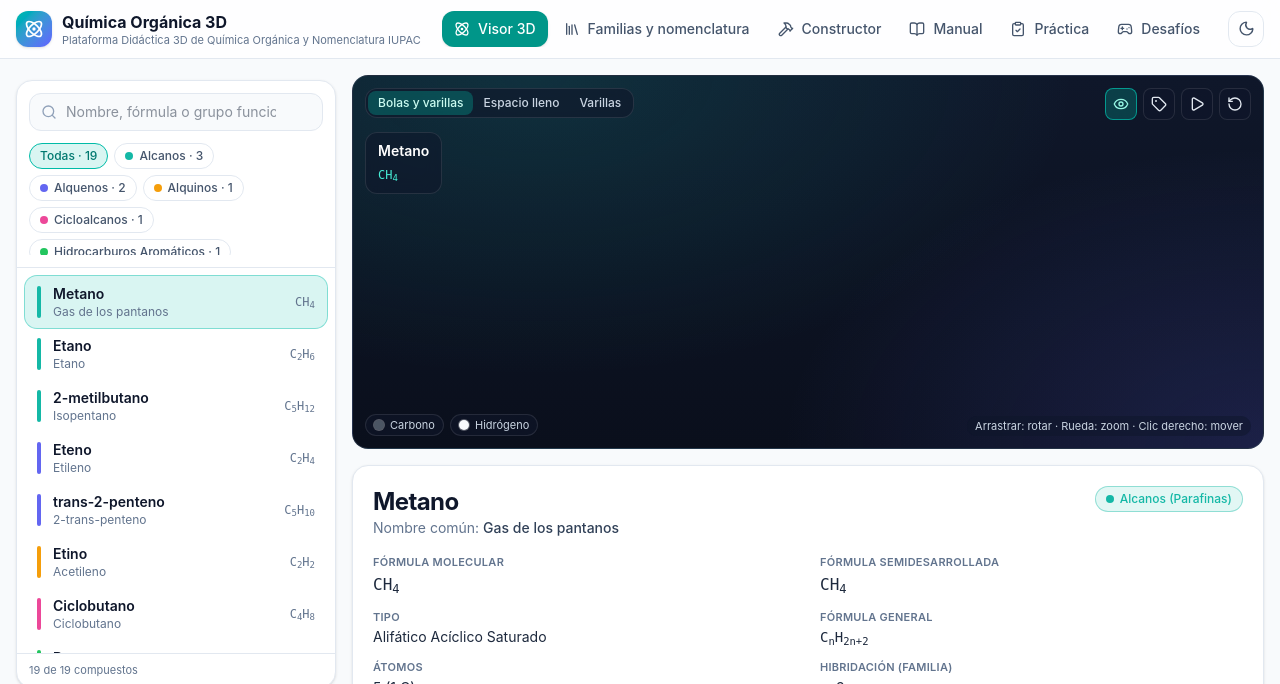
Test: Práctica de parcial › hoja Tema A: corrige una fórmula → nombre con ayuda inmediata
Click the button "Práctica".
click(1050, 29)  # box [998,11,1101,47]
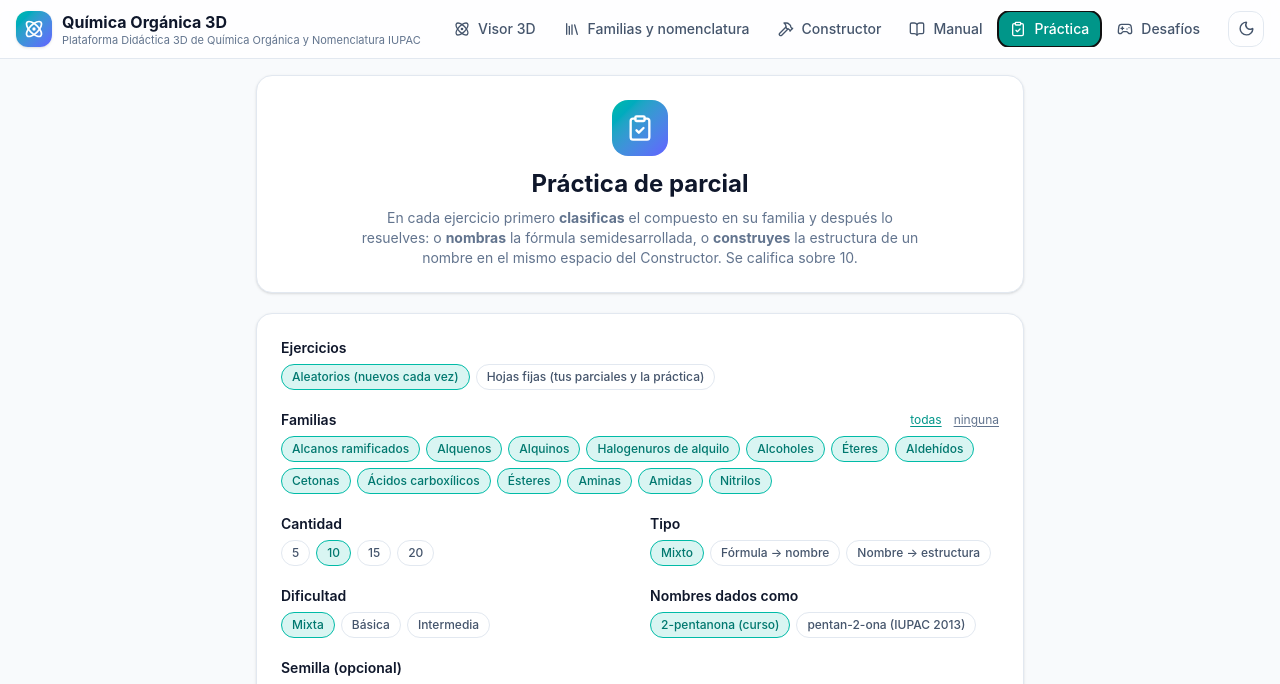
Click the button "Hojas fijas (tus parciales y la práctica)".
click(596, 377)  # box [476,364,715,390]
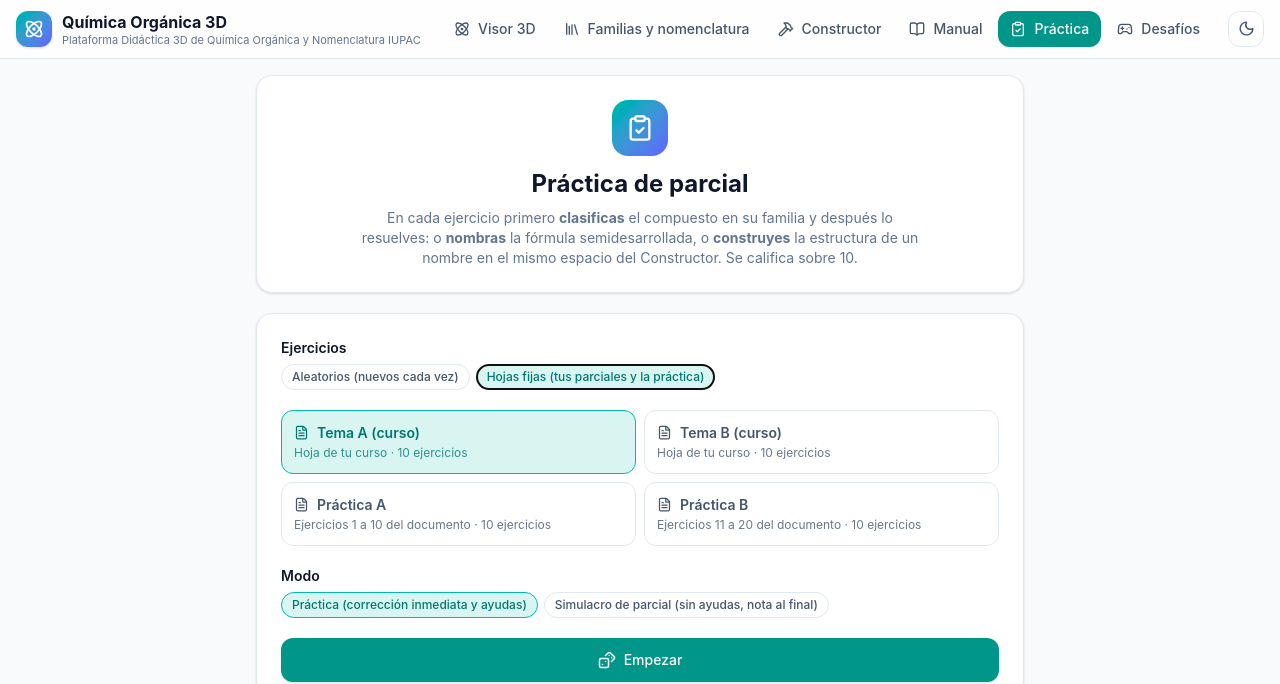
Click the button "Tema A (curso) Hoja de tu curso · 10 ejercicios".
click(458, 442)  # box [281,410,636,474]
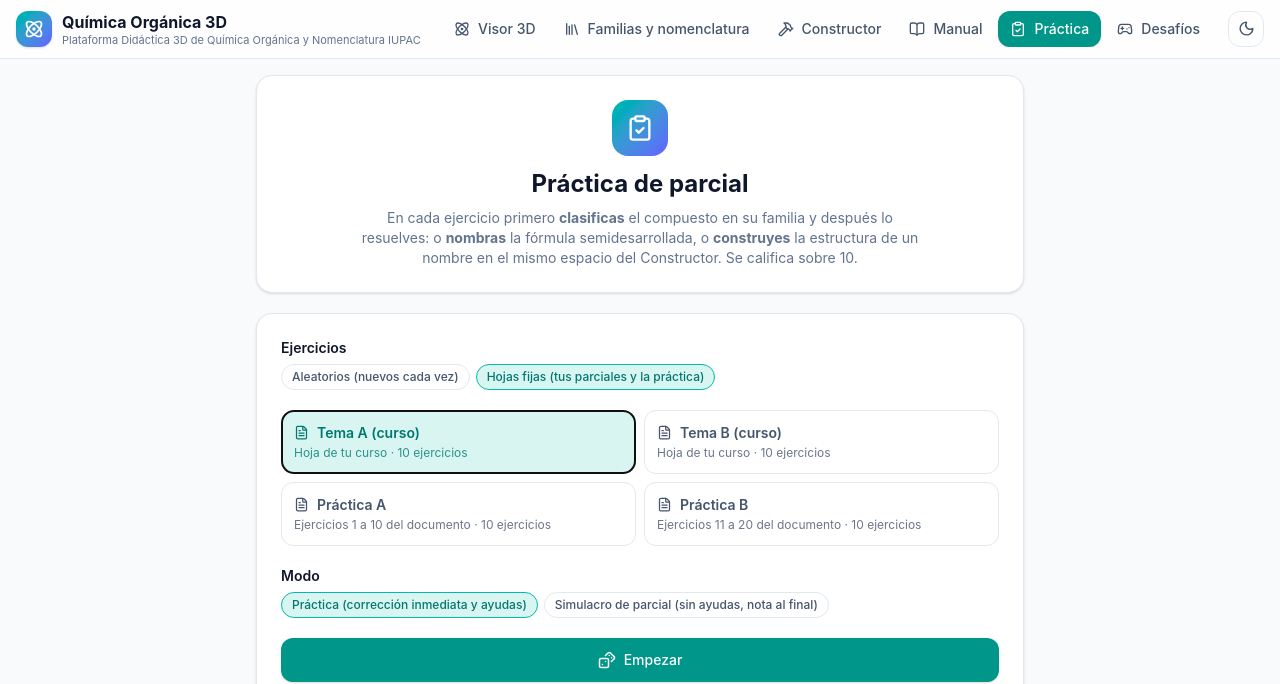
Click the button "Empezar".
click(640, 660)  # box [281,638,999,682]
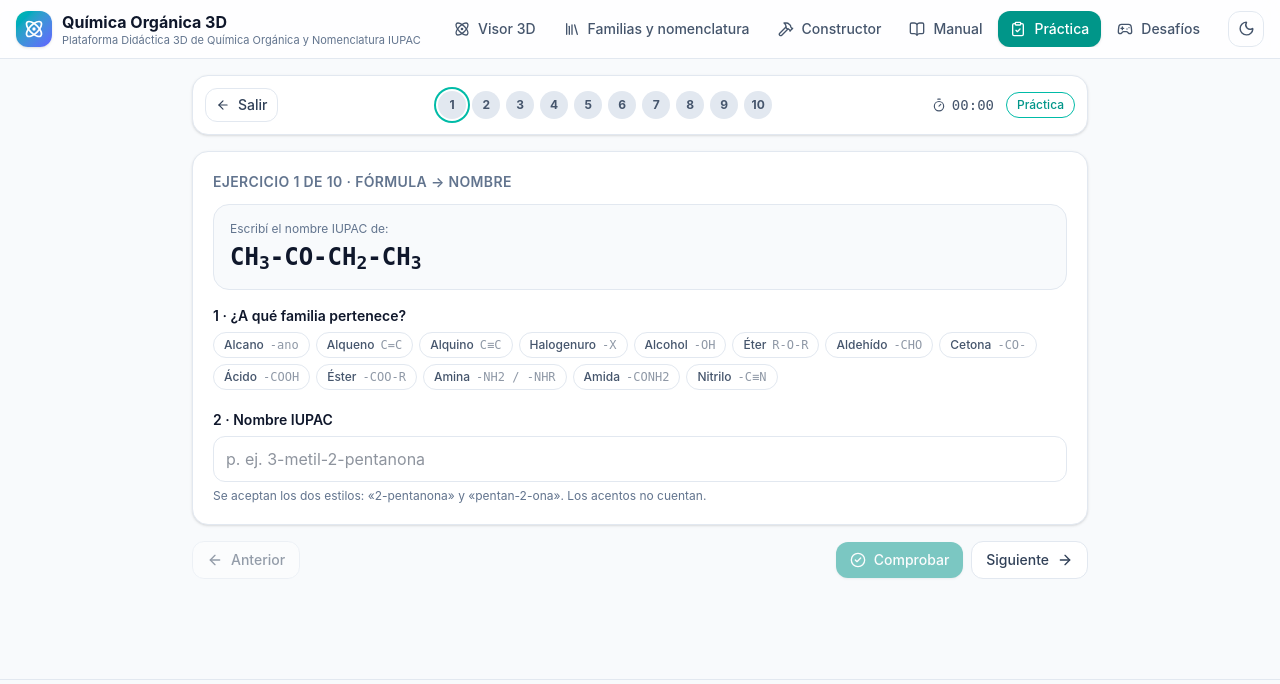
Result: the element with test id "dado" reads "CH3-CO-CH2-CH3" at [230,243,422,273]
Click the button "Cetona -CO-".
click(988, 345)  # box [939,332,1037,358]
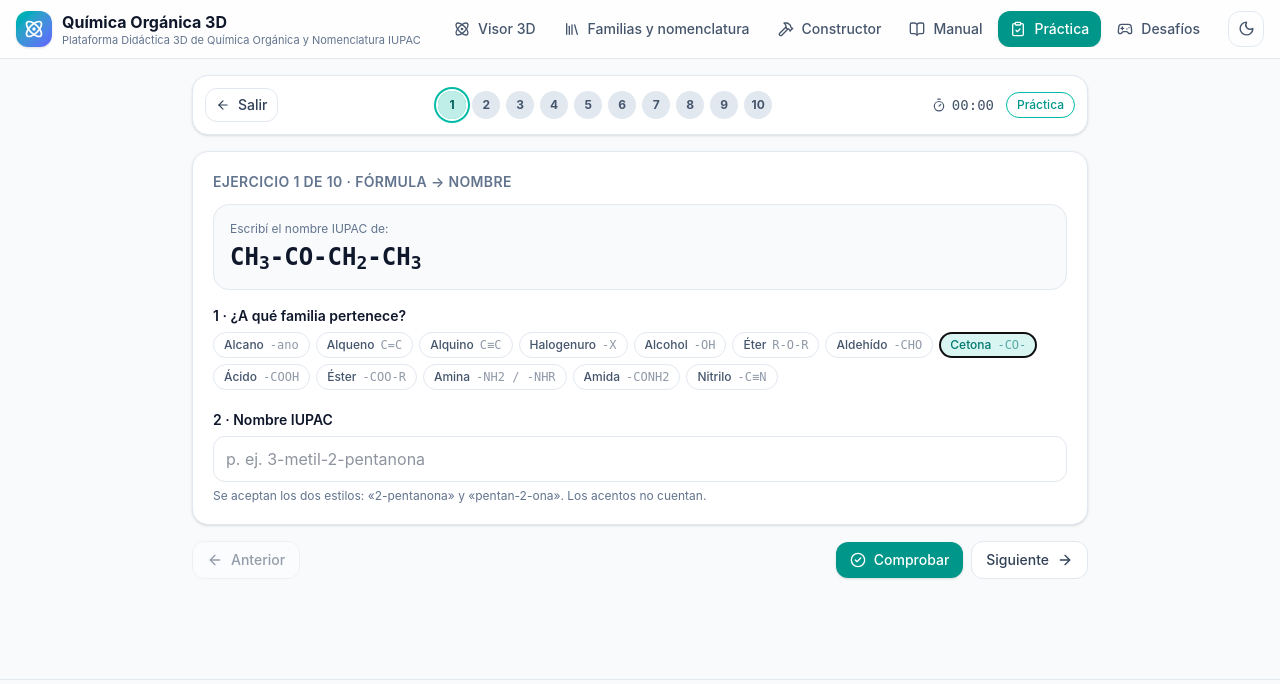
Type "2-butanona" into the field named "Nombre IUPAC".
click(640, 459); type("2-butanona")  # box [213,436,1067,482]
Click the button "Comprobar".
click(900, 560)  # box [836,542,963,578]
(page scrolled)
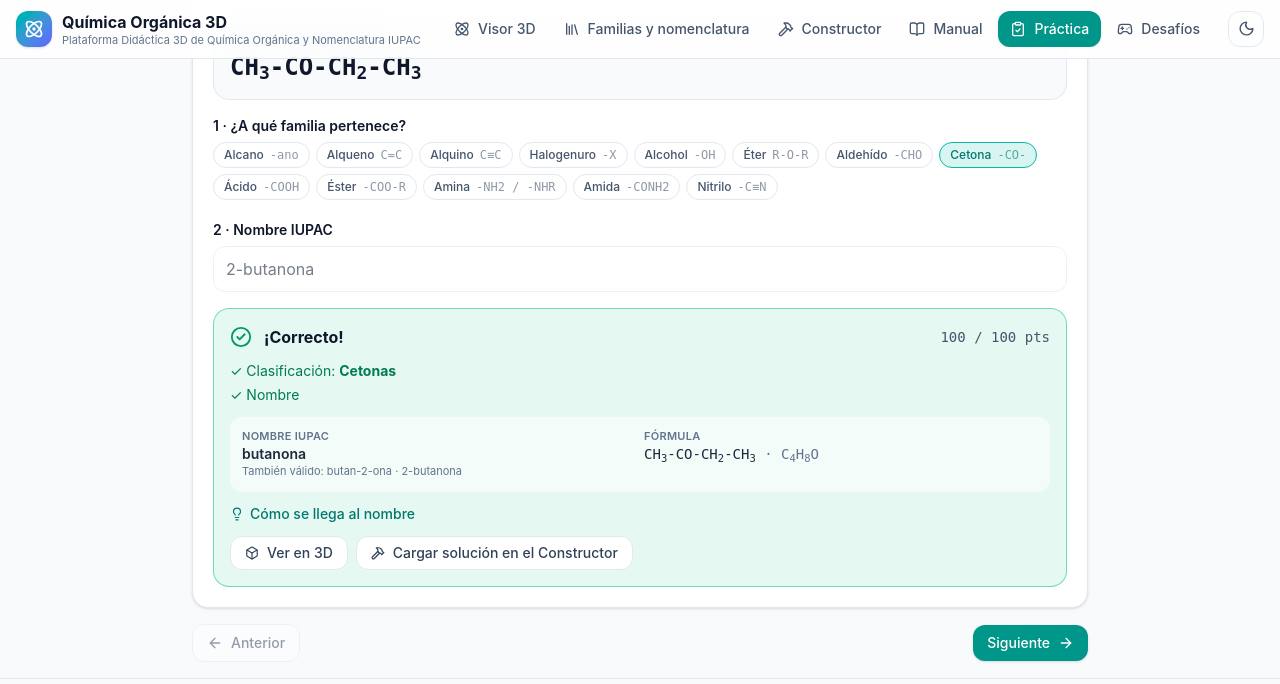
Result: the message shows "¡Correcto!" at [264,327,344,347]
Result: the message shows "100 / 100 pts" at [213,308,1067,587]
